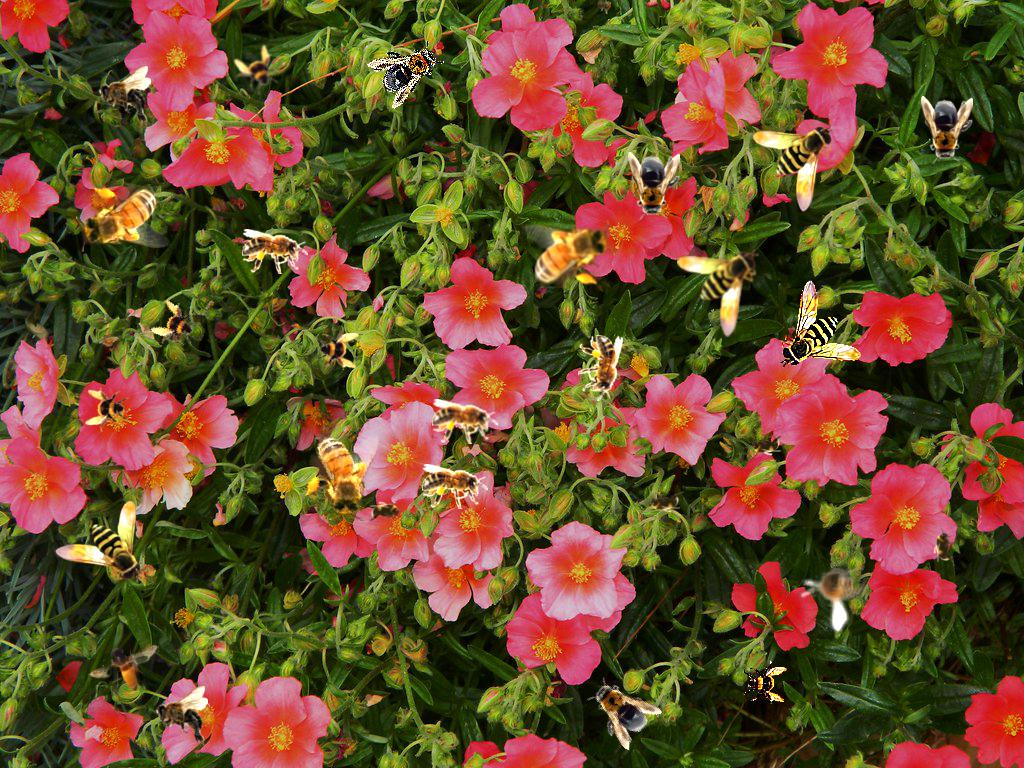Bee: (297, 421, 385, 528), (789, 541, 880, 635), (577, 668, 663, 752), (753, 124, 835, 212), (55, 501, 143, 583), (677, 249, 759, 337), (779, 280, 861, 368), (365, 28, 451, 110), (522, 220, 615, 288), (76, 184, 169, 252), (226, 40, 288, 102), (146, 296, 206, 356), (88, 643, 159, 693), (628, 152, 680, 220), (921, 96, 973, 164), (155, 686, 208, 748), (98, 66, 151, 128), (422, 464, 488, 509), (432, 399, 498, 444), (242, 229, 308, 274), (578, 335, 623, 401), (743, 660, 787, 704), (315, 326, 359, 370), (85, 388, 129, 432), (933, 526, 955, 566), (745, 434, 785, 456), (366, 501, 406, 523), (644, 491, 684, 513)
